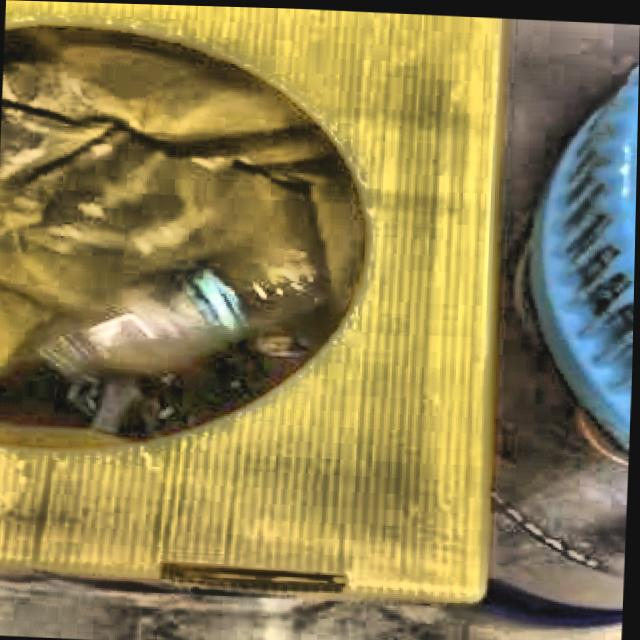plastic: (36, 253, 329, 375)
